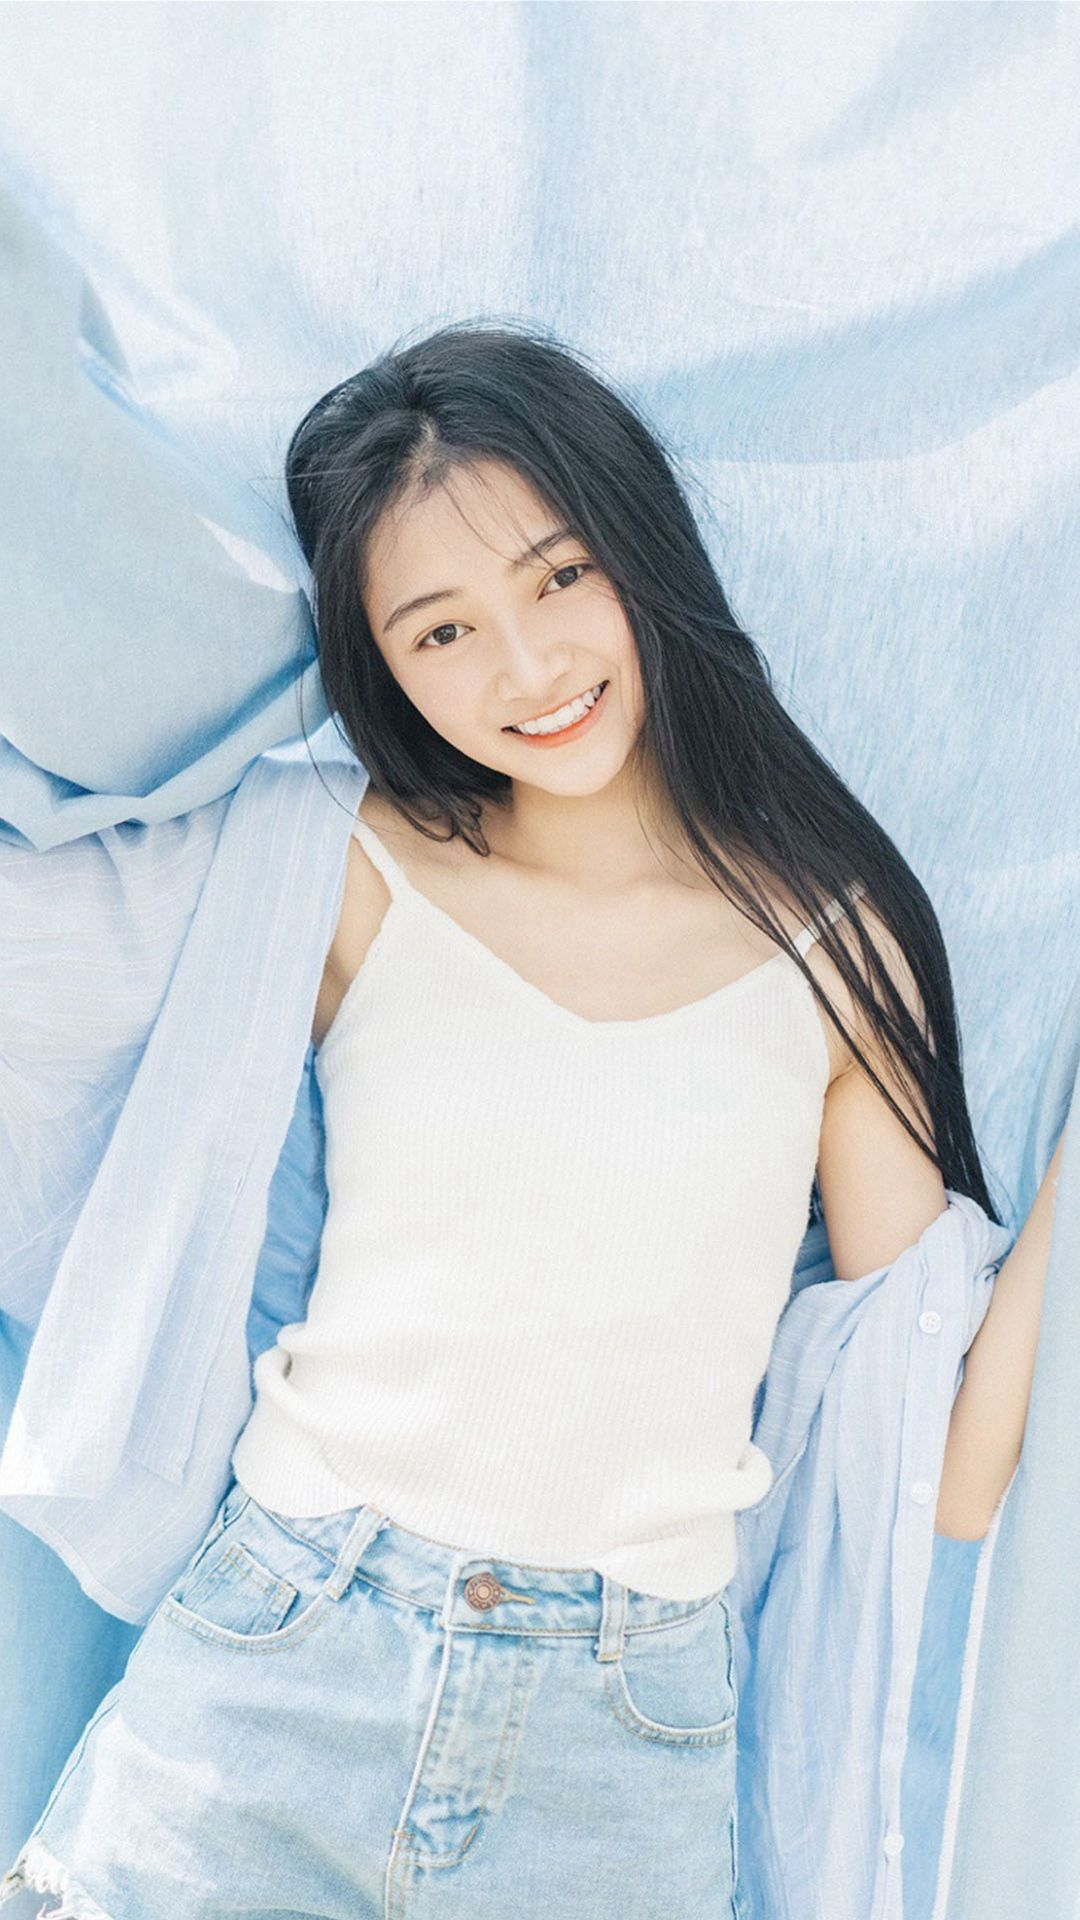person: (187, 325, 726, 1539)
